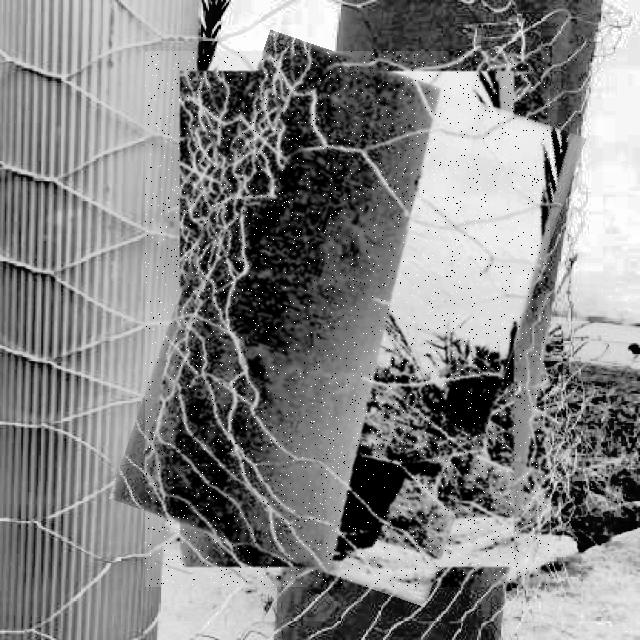anomaly-fence: (145, 51, 550, 587)
